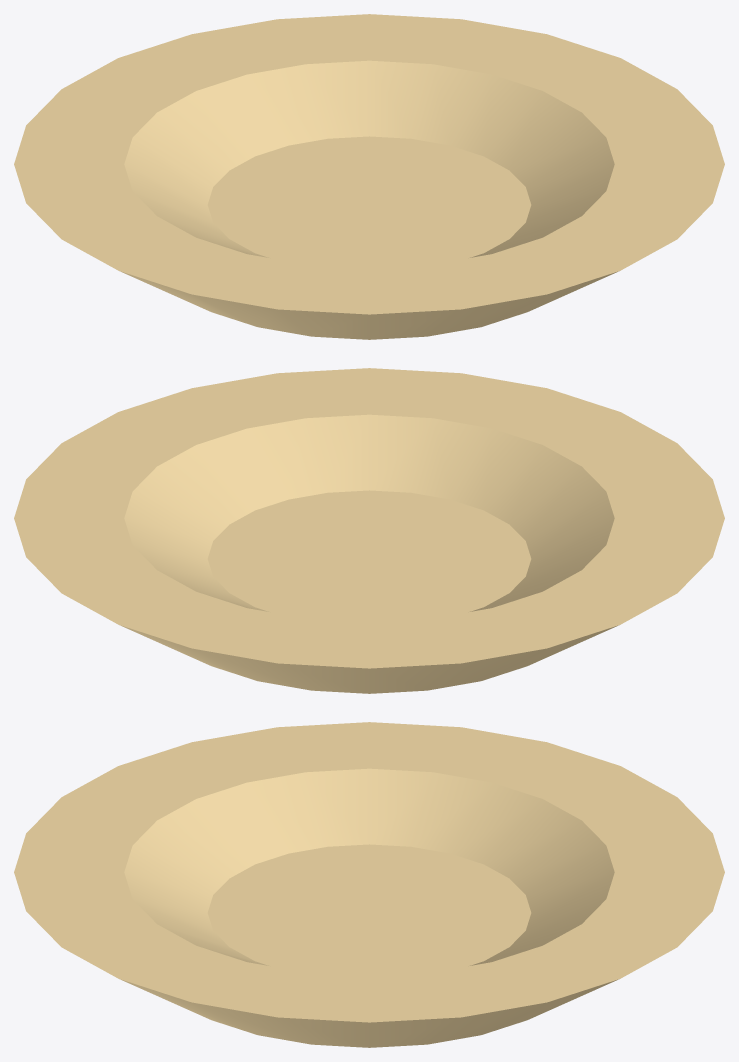
The model's file is detailPlate.glb.
The picture shows the model from 3 angles, top to bottom: view 1: azimuth 30°, elevation 25°; view 2: azimuth 150°, elevation 25°; view 3: azimuth 270°, elevation 25°; orthographic projection.
Visible parts, largest first — view 1: detailPlate; view 2: detailPlate; view 3: detailPlate.
Boxes of the visible parts, x1=… form: detailPlate: x1=14, y1=14, x2=724, y2=339; detailPlate: x1=14, y1=368, x2=724, y2=693; detailPlate: x1=14, y1=722, x2=724, y2=1047.
Size of the model in its own units: 0.2535 by 0.0319 by 0.2535.
